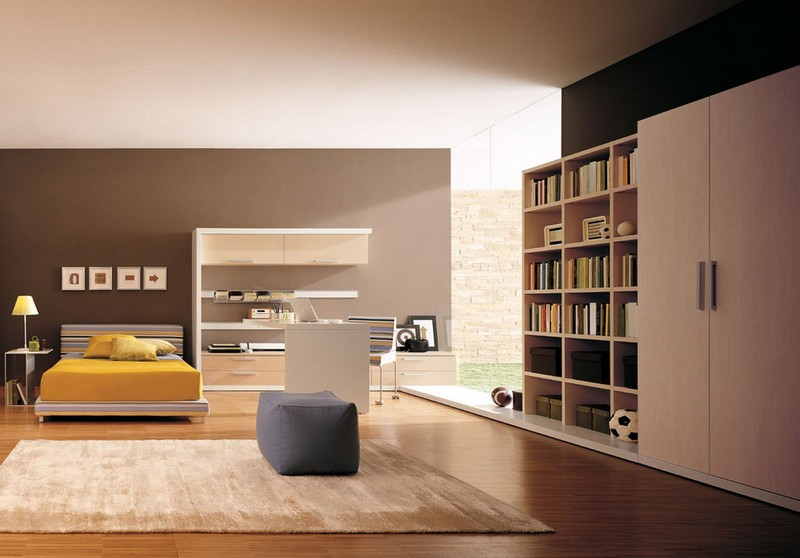bed: (41, 322, 209, 420)
chair: (345, 312, 403, 401)
lamp: (8, 294, 41, 355)
stool: (5, 344, 53, 406)
